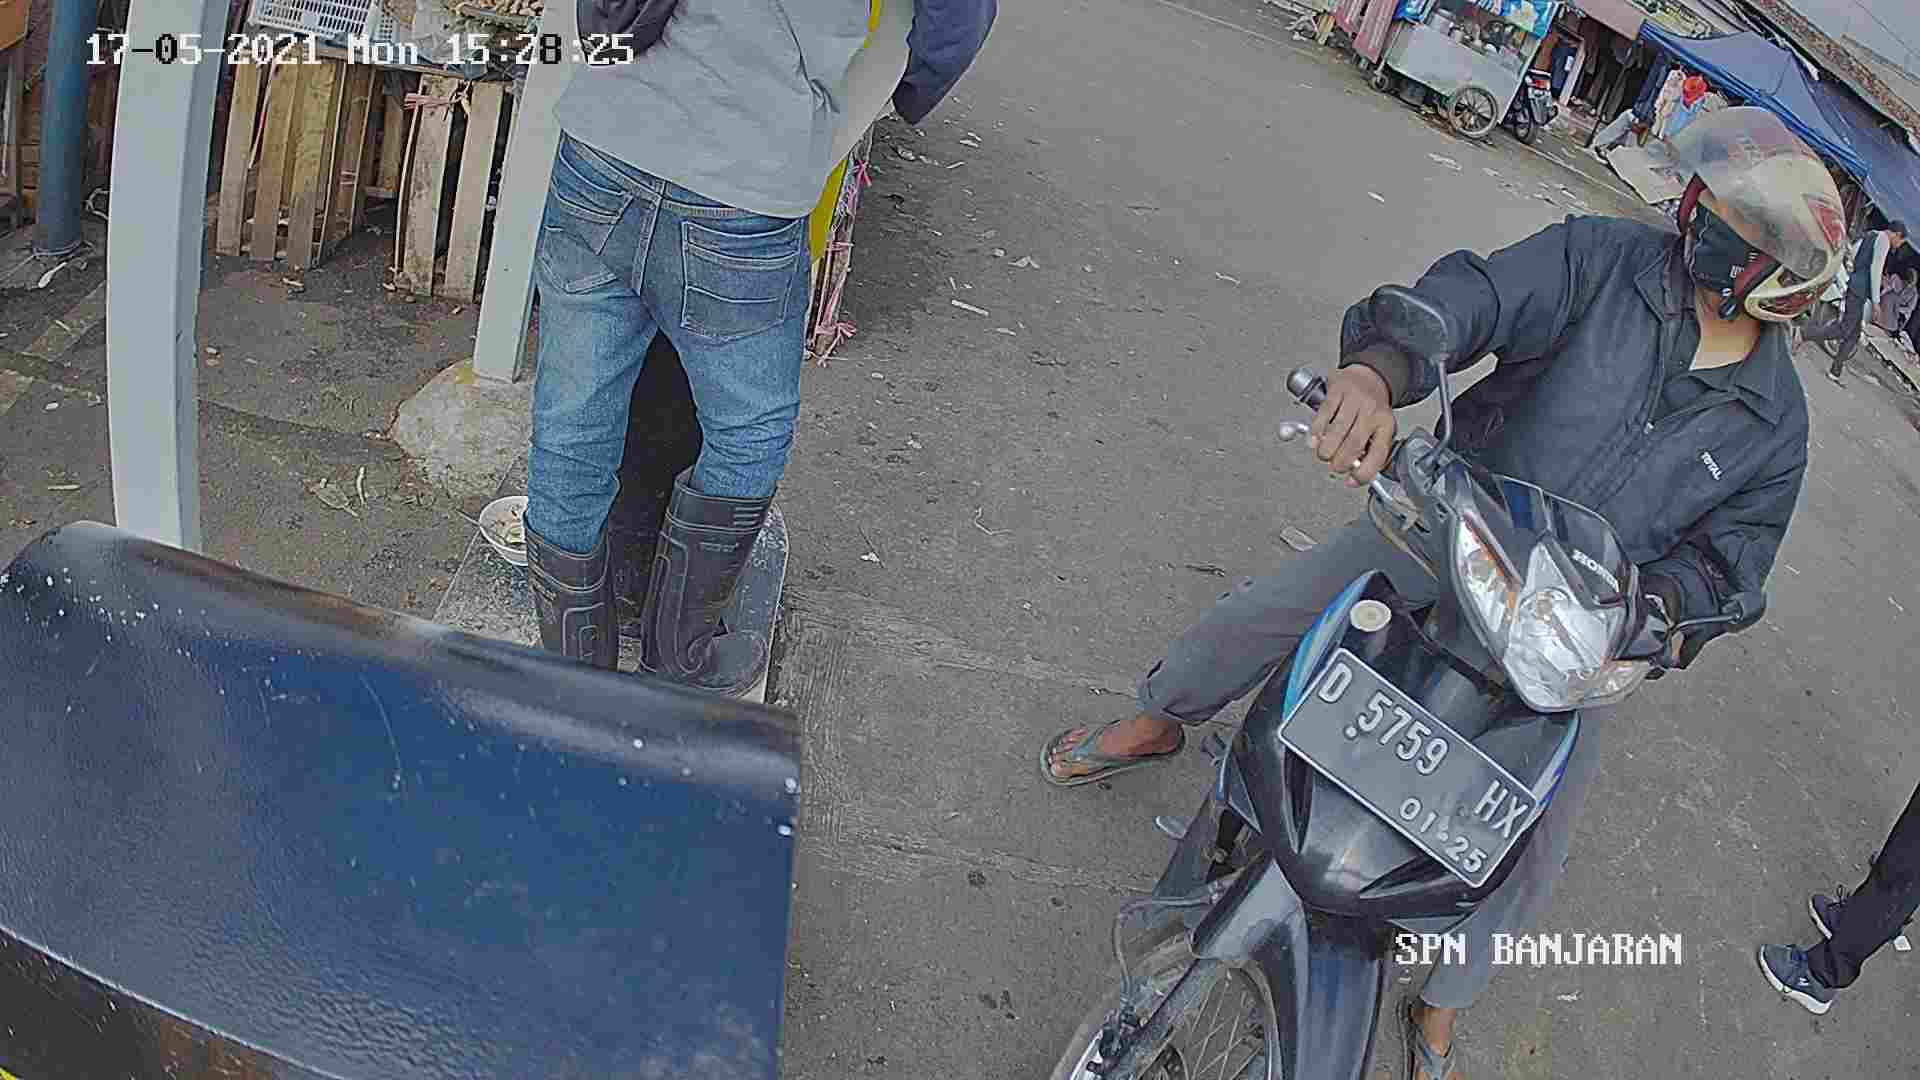motor: (1110, 365, 1687, 1080)
